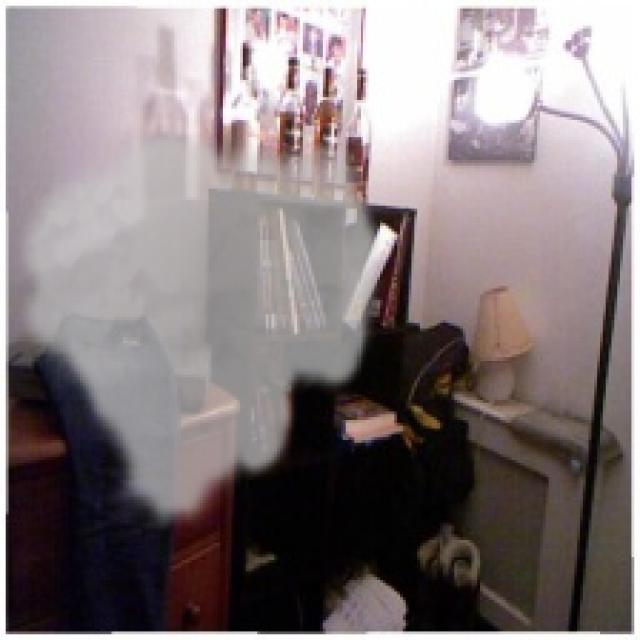smoke: (8, 126, 386, 534)
